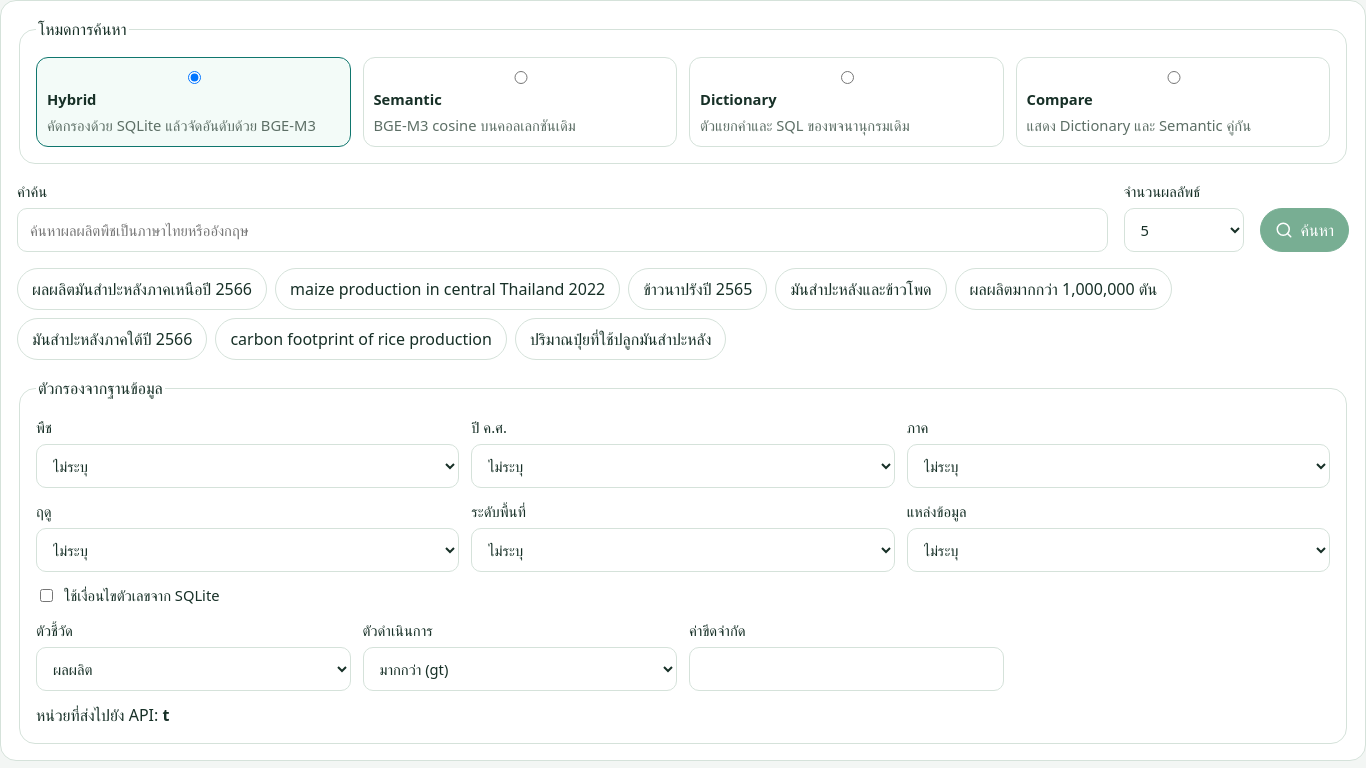
Test: frontend › T03 switches search mode
Click the radio button labelled "Semantic BGE-M3 cosine บนคอลเลกชันเดิม".
click(521, 78)  # box [378,71,663,84]
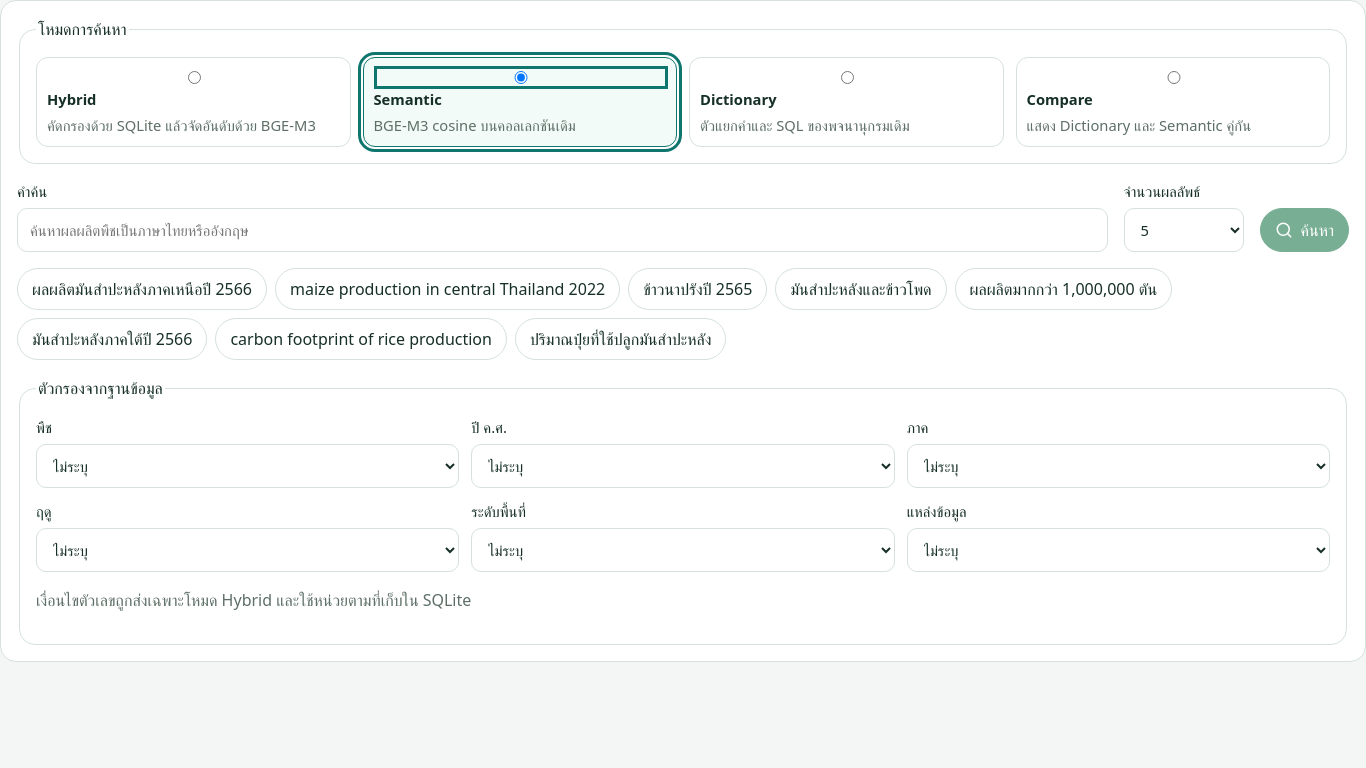
Expected: the radio button labelled "Semantic BGE-M3 cosine บนคอลเลกชันเดิม" is checked, [378,71,663,84]
Expected: the radio button labelled "Hybrid คัดกรองด้วย SQLite แล้วจัดอันดับด้วย BGE-M3" is not checked, [52,71,336,84]
